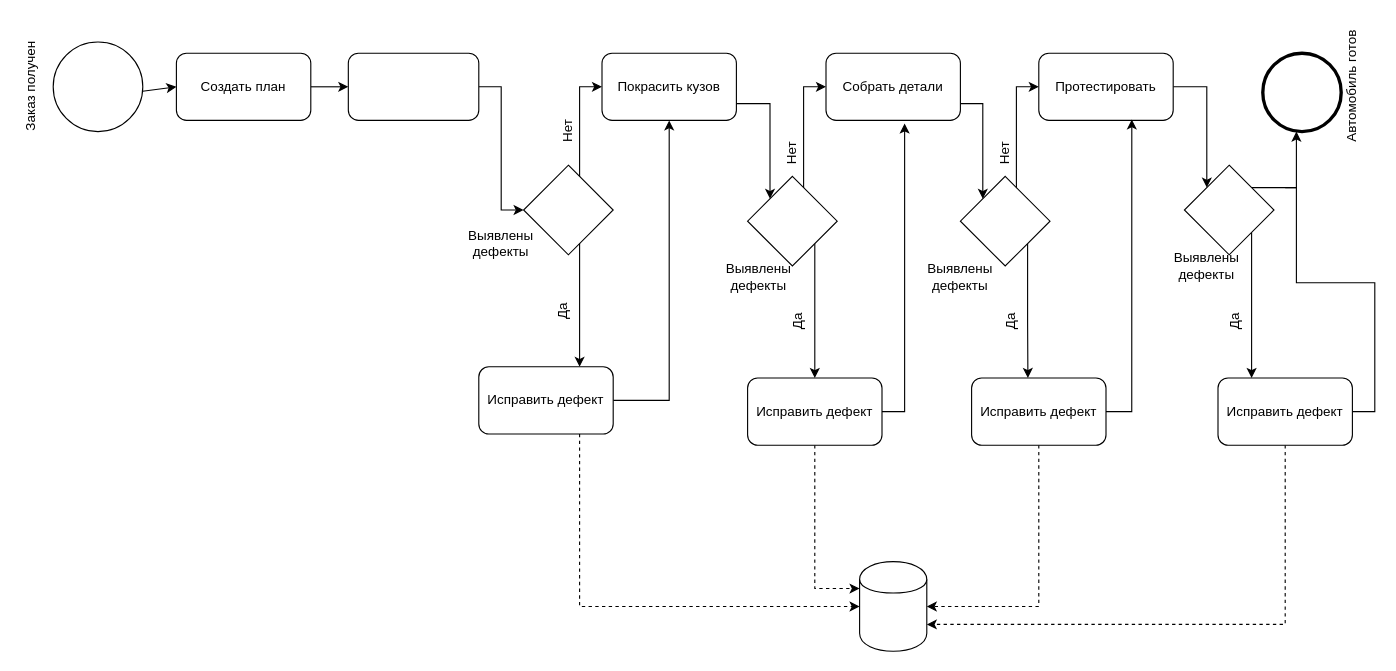
Image size: 1396x671. Some labels were removed from this diagram. The centre of each missing label's shape, as x and y in pixels:
"База дефектов" goes at (892,606).
"Собрать кузов" goes at (413,86).
